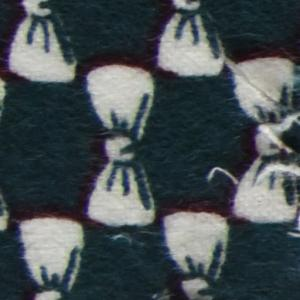Damage: (202, 32, 300, 244), (150, 289, 178, 300)
